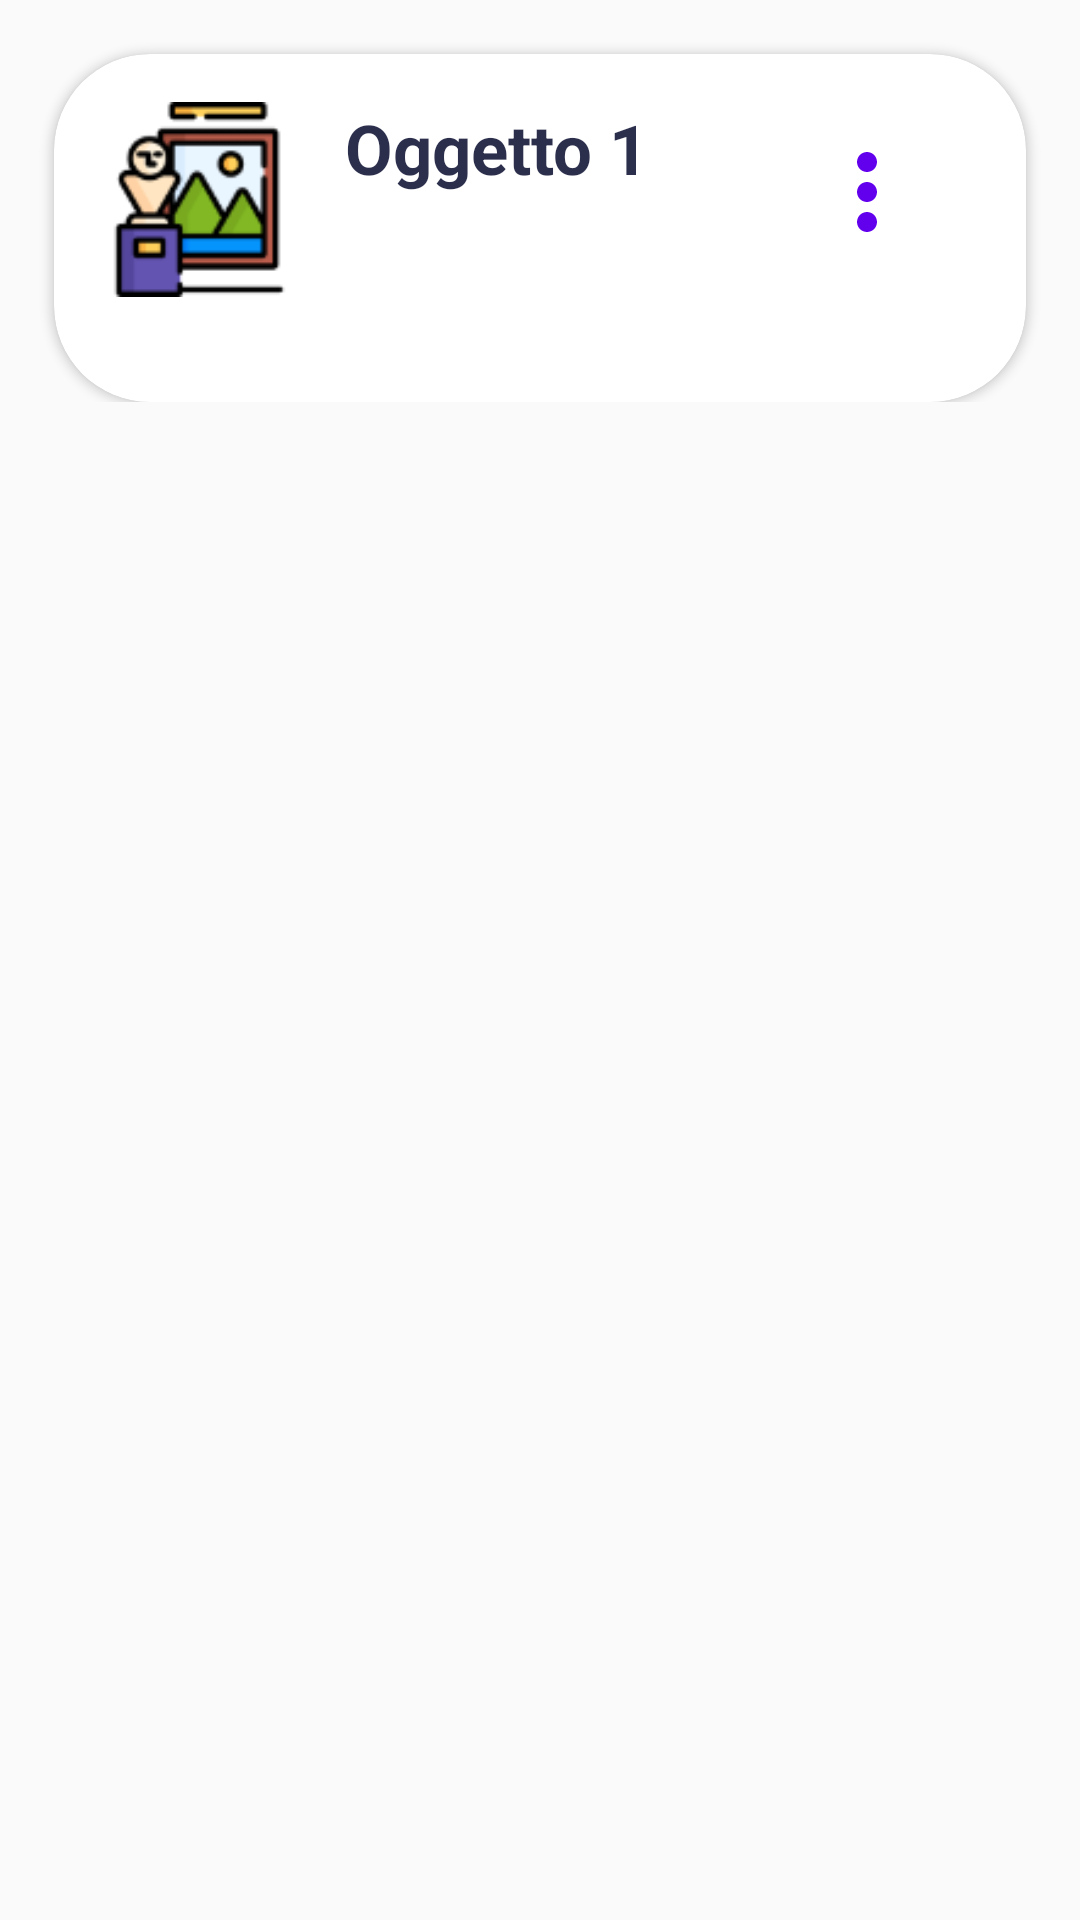

Locate icon controls on the screen. Image size 1080px x 1920px, boxes as (x1, y1, x2, y2).
more vert: (857, 152, 877, 232)
